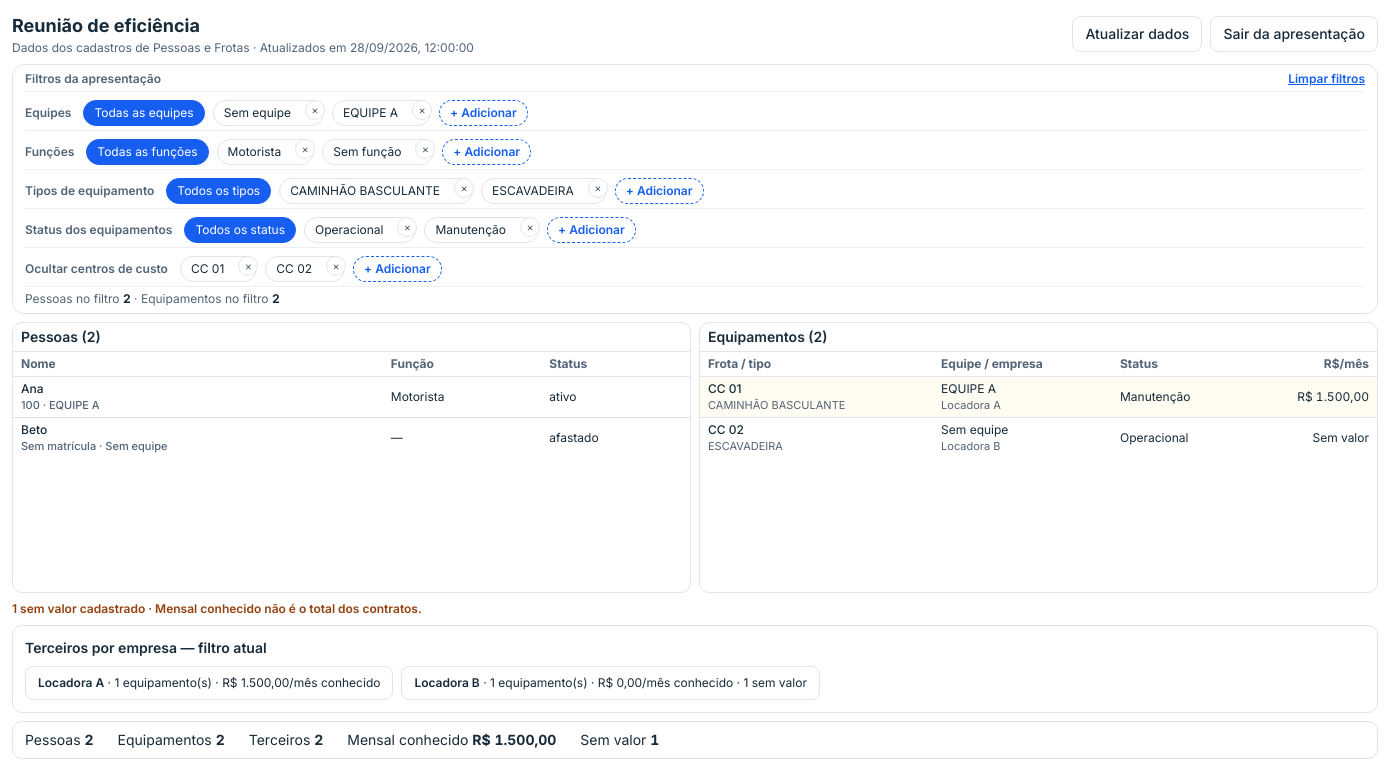
Test: tela de reunião › hides chosen cost centers in the combined presentation, including the other catalog
Expected: the text "CC 01" is shown, [708,381,742,396]
Click the button with aria-label "Ocultar centro de custo CC 01" at (209, 269), box [181,257,236,281]
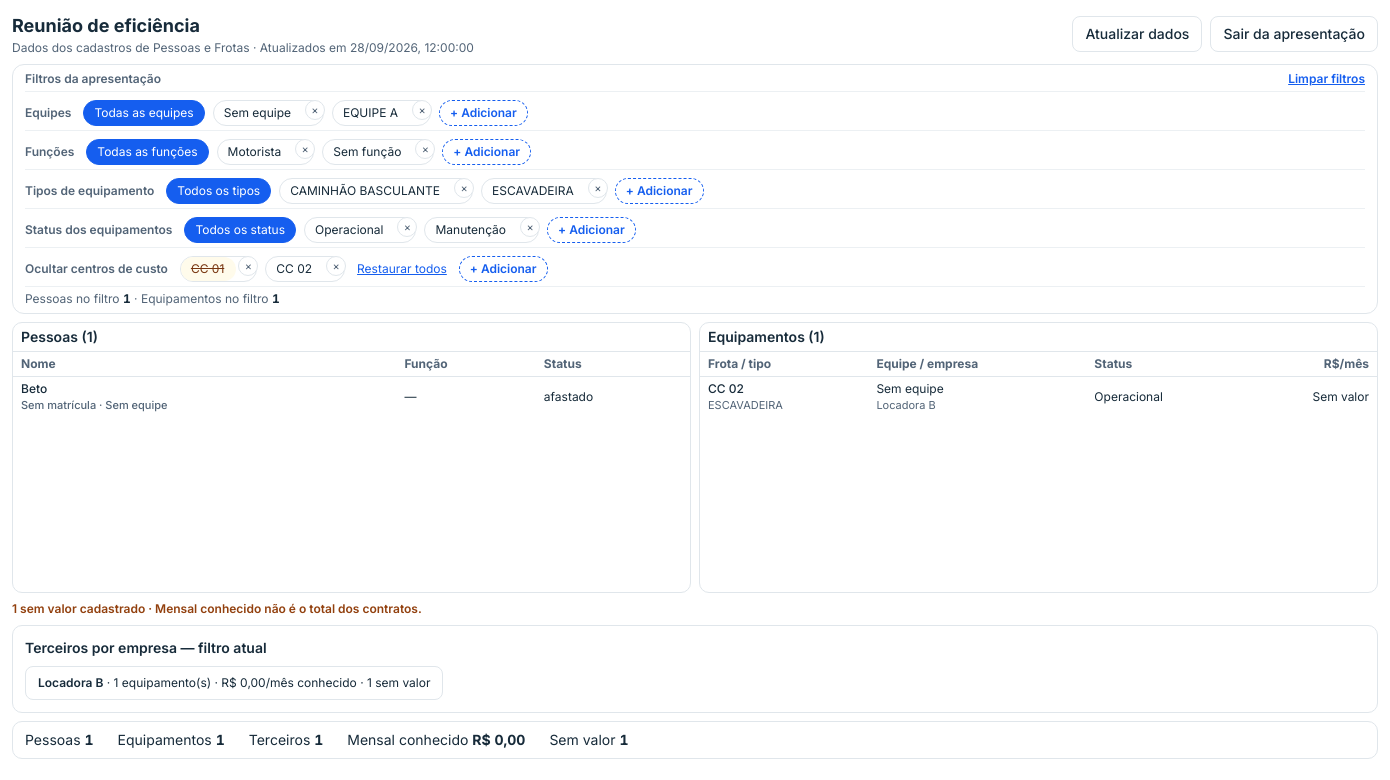
Expected: the text "Beto" is shown, [21,381,47,396]
Now the text "Ana" is gone
Click the button with aria-label "Restaurar centro de custo CC 01" at (209, 269), box [181,257,236,281]
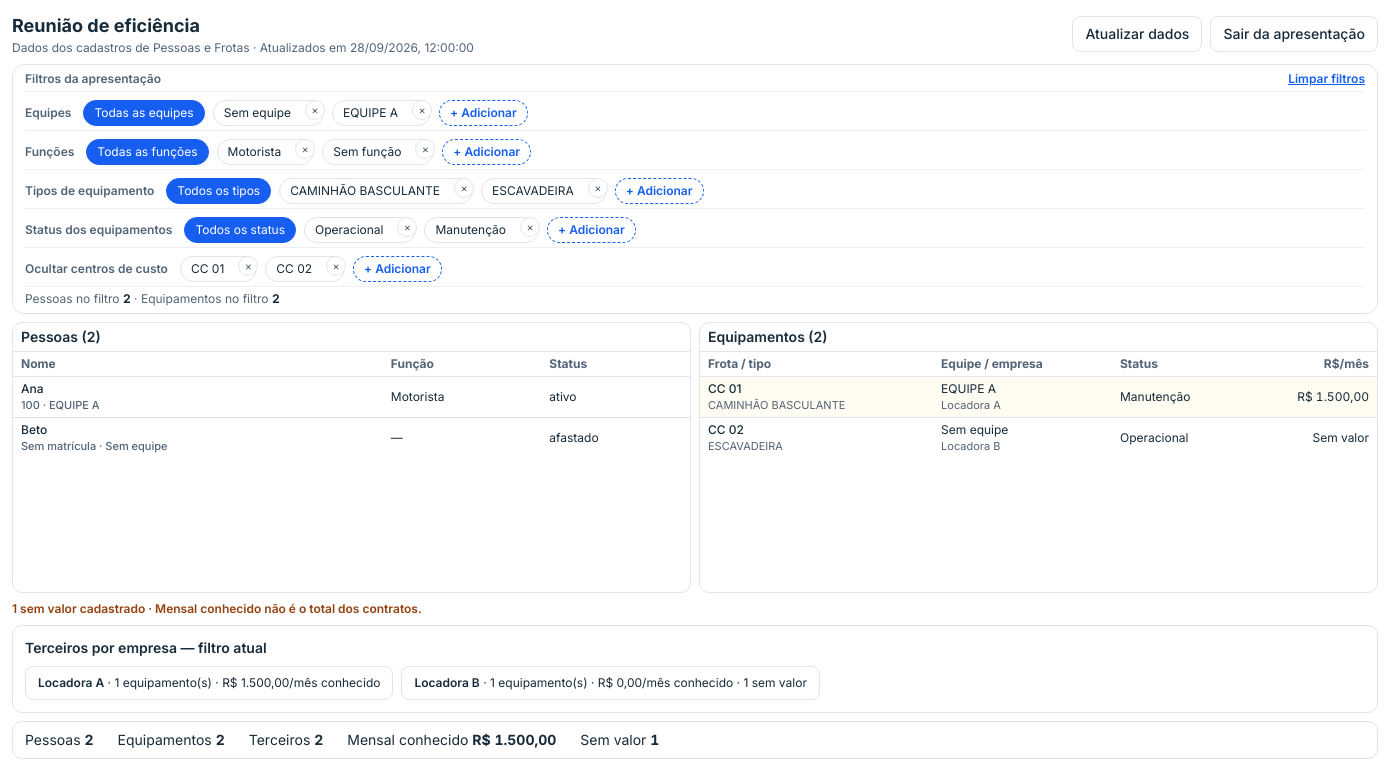
Now the text "Ana" is shown, box [21,381,44,396]
